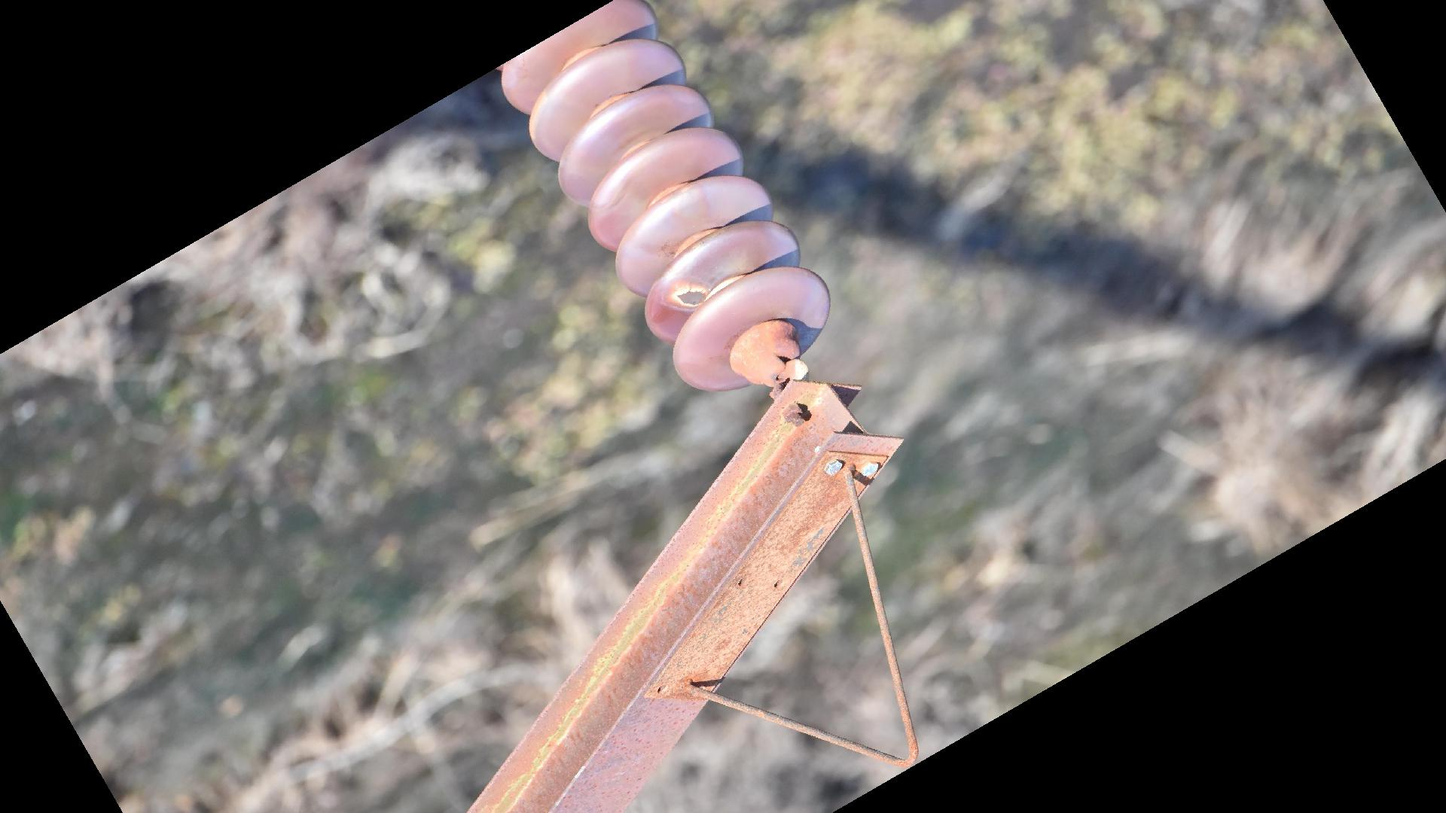insulator: (492, 1, 838, 399)
insulator_flashover: (667, 282, 710, 311)
